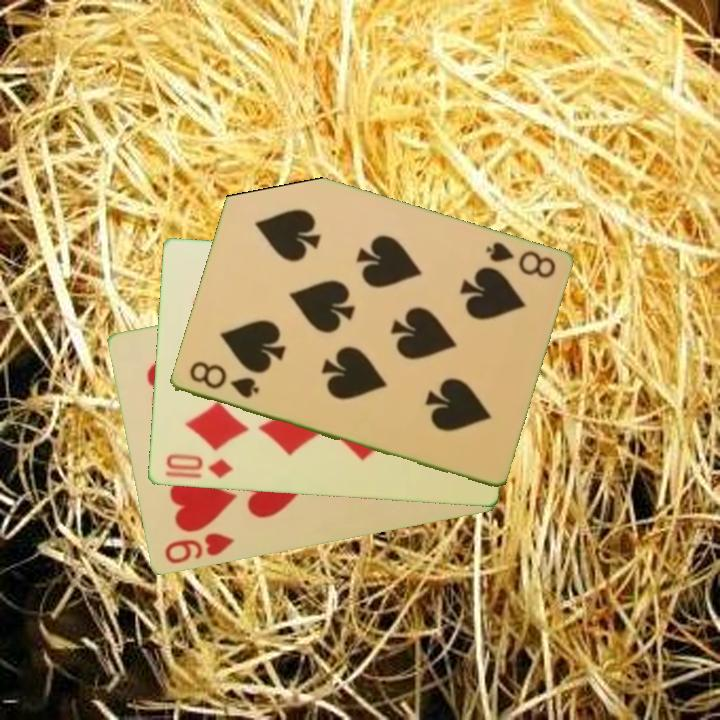10d: (161, 450, 235, 482)
8s: (481, 238, 558, 282), (185, 358, 261, 402)
9h: (160, 529, 237, 567)
